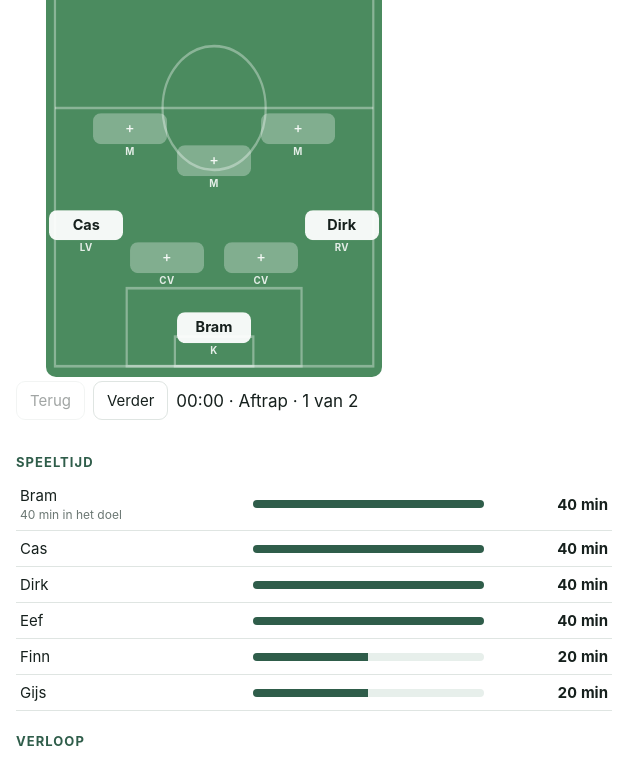
Test case: de opstelling van een bewaarde wedstrijd › licht de plek op waar de wissel plaatsvond
(page scrolled)
Click the button "Verder" at (131, 400), box [93,381,168,420]
(page scrolled)
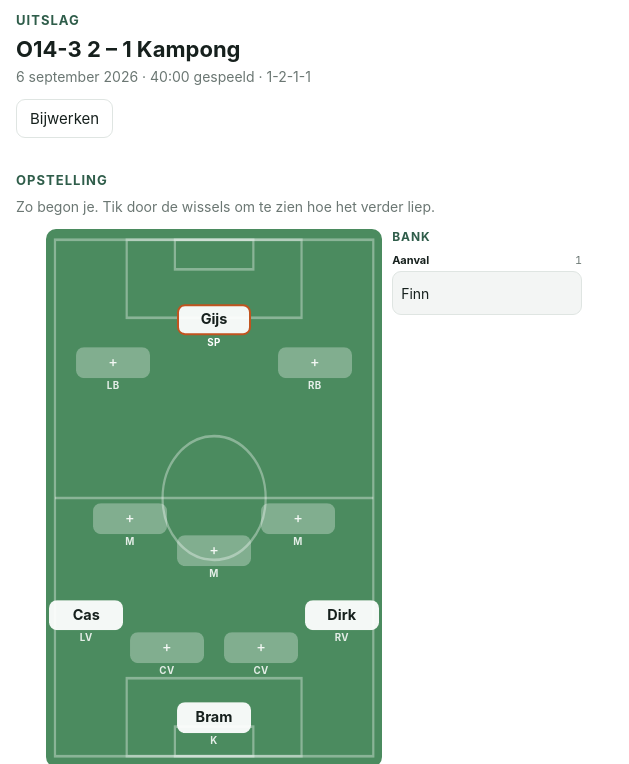
Now the button with class "gemarkeerd" shows "Gijs", box [177,304,251,348]
